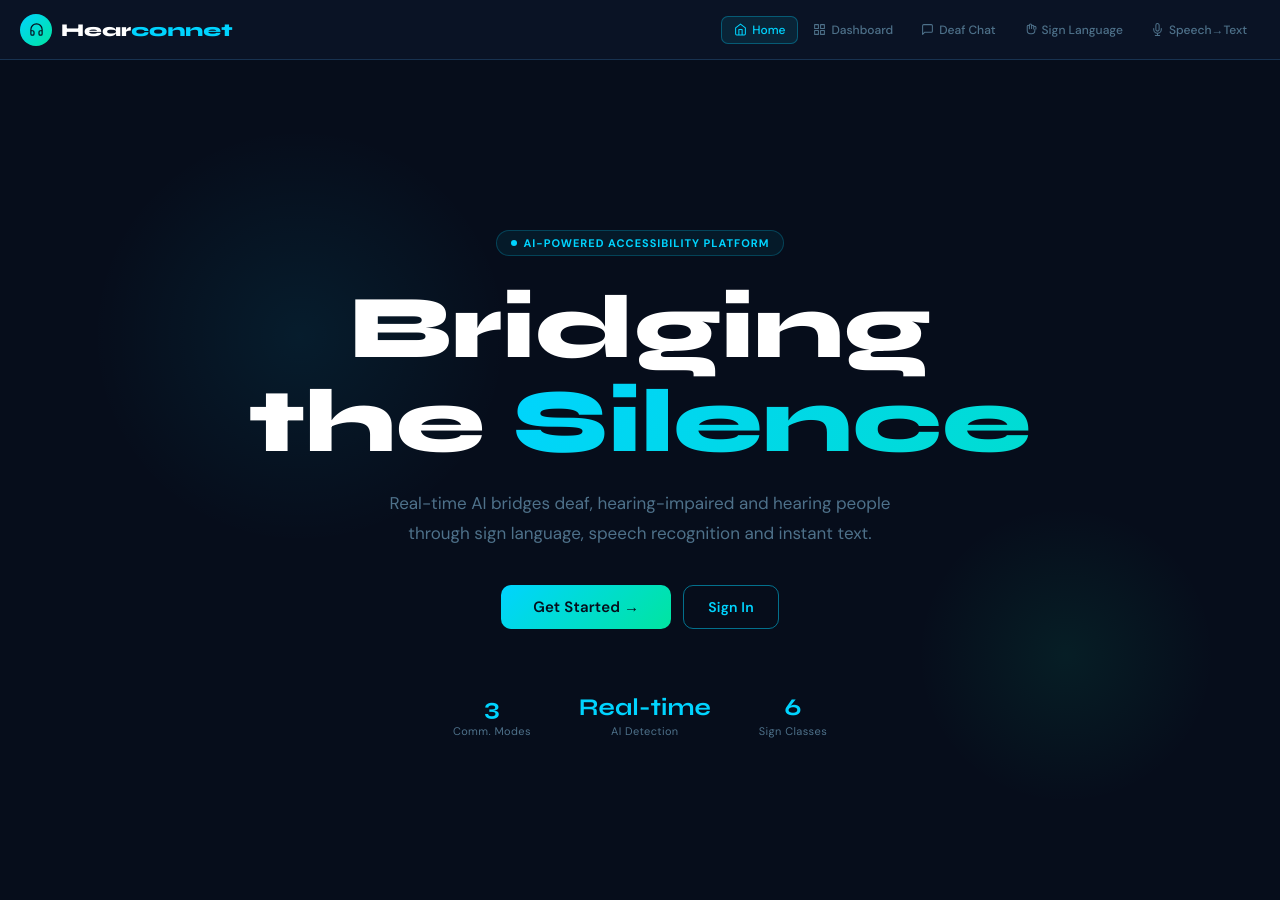
Test: Auth guard › logout returns user to home page
This screenshot has width=1280, height=900.
// Navigate to login then back
Step 1. Click the button "Sign In" → (731, 607), box [683, 585, 779, 629]
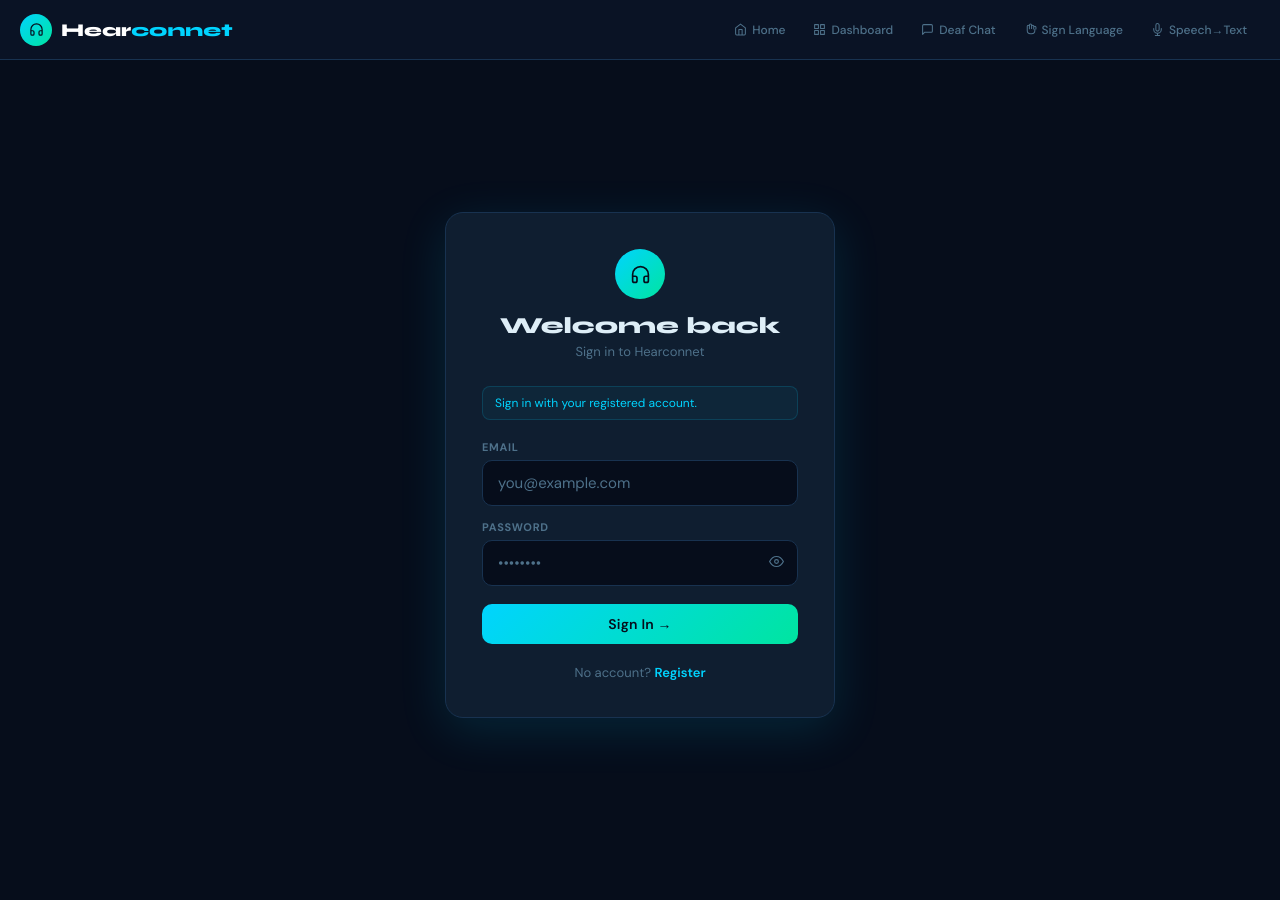
expect the heading "Welcome back" is shown: met, box [482, 312, 798, 339]
